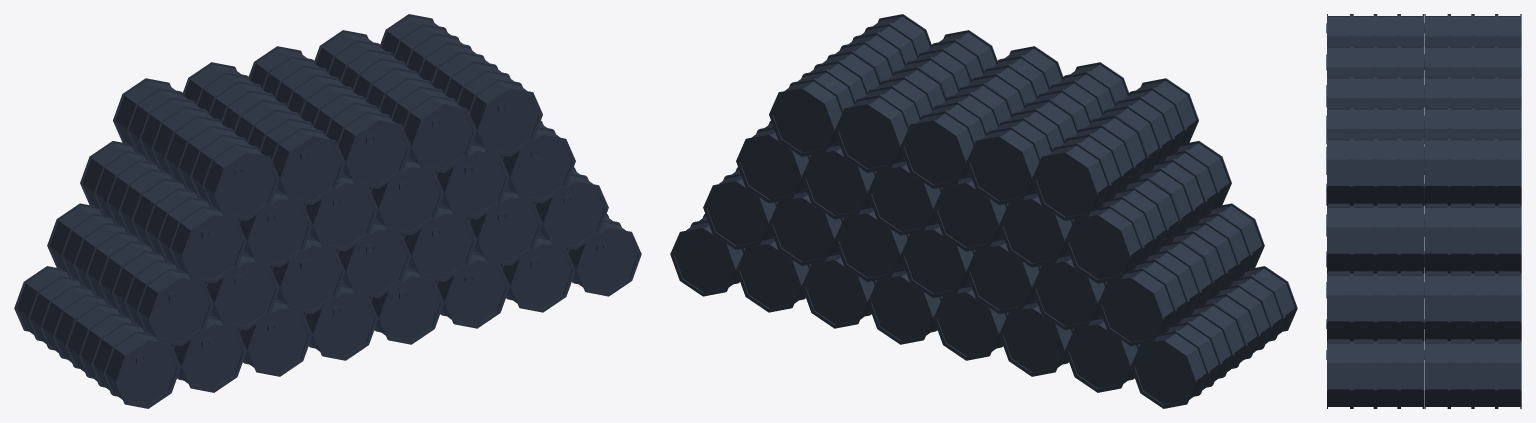
The picture shows the model from 3 angles, left to right: view 1: azimuth 30°, elevation 25°; view 2: azimuth 150°, elevation 25°; view 3: azimuth 270°, elevation 25°; orthographic projection. The views are drawn at different scales.
Parts seen in each view (by area): view 1: barril.004, barril.001, barril.002, barril.003; view 2: barril.004, barril.001, barril.002, barril.003; view 3: barril.004, barril.002, barril.003, barril.001.
Part boxes in pixels (left/top/right/bottom): barril.004: left=113, top=14, right=542, bottom=220; barril.001: left=14, top=214, right=641, bottom=408; barril.002: left=47, top=167, right=608, bottom=346; barril.003: left=80, top=121, right=575, bottom=283; barril.004: left=769, top=14, right=1198, bottom=220; barril.001: left=670, top=214, right=1297, bottom=408; barril.002: left=703, top=167, right=1264, bottom=346; barril.003: left=736, top=121, right=1231, bottom=283; barril.004: left=1326, top=14, right=1521, bottom=205; barril.002: left=1326, top=101, right=1521, bottom=341; barril.003: left=1326, top=64, right=1521, bottom=273; barril.001: left=1326, top=138, right=1521, bottom=408.
Size of the model in its own units: 695 by 294 by 233.
